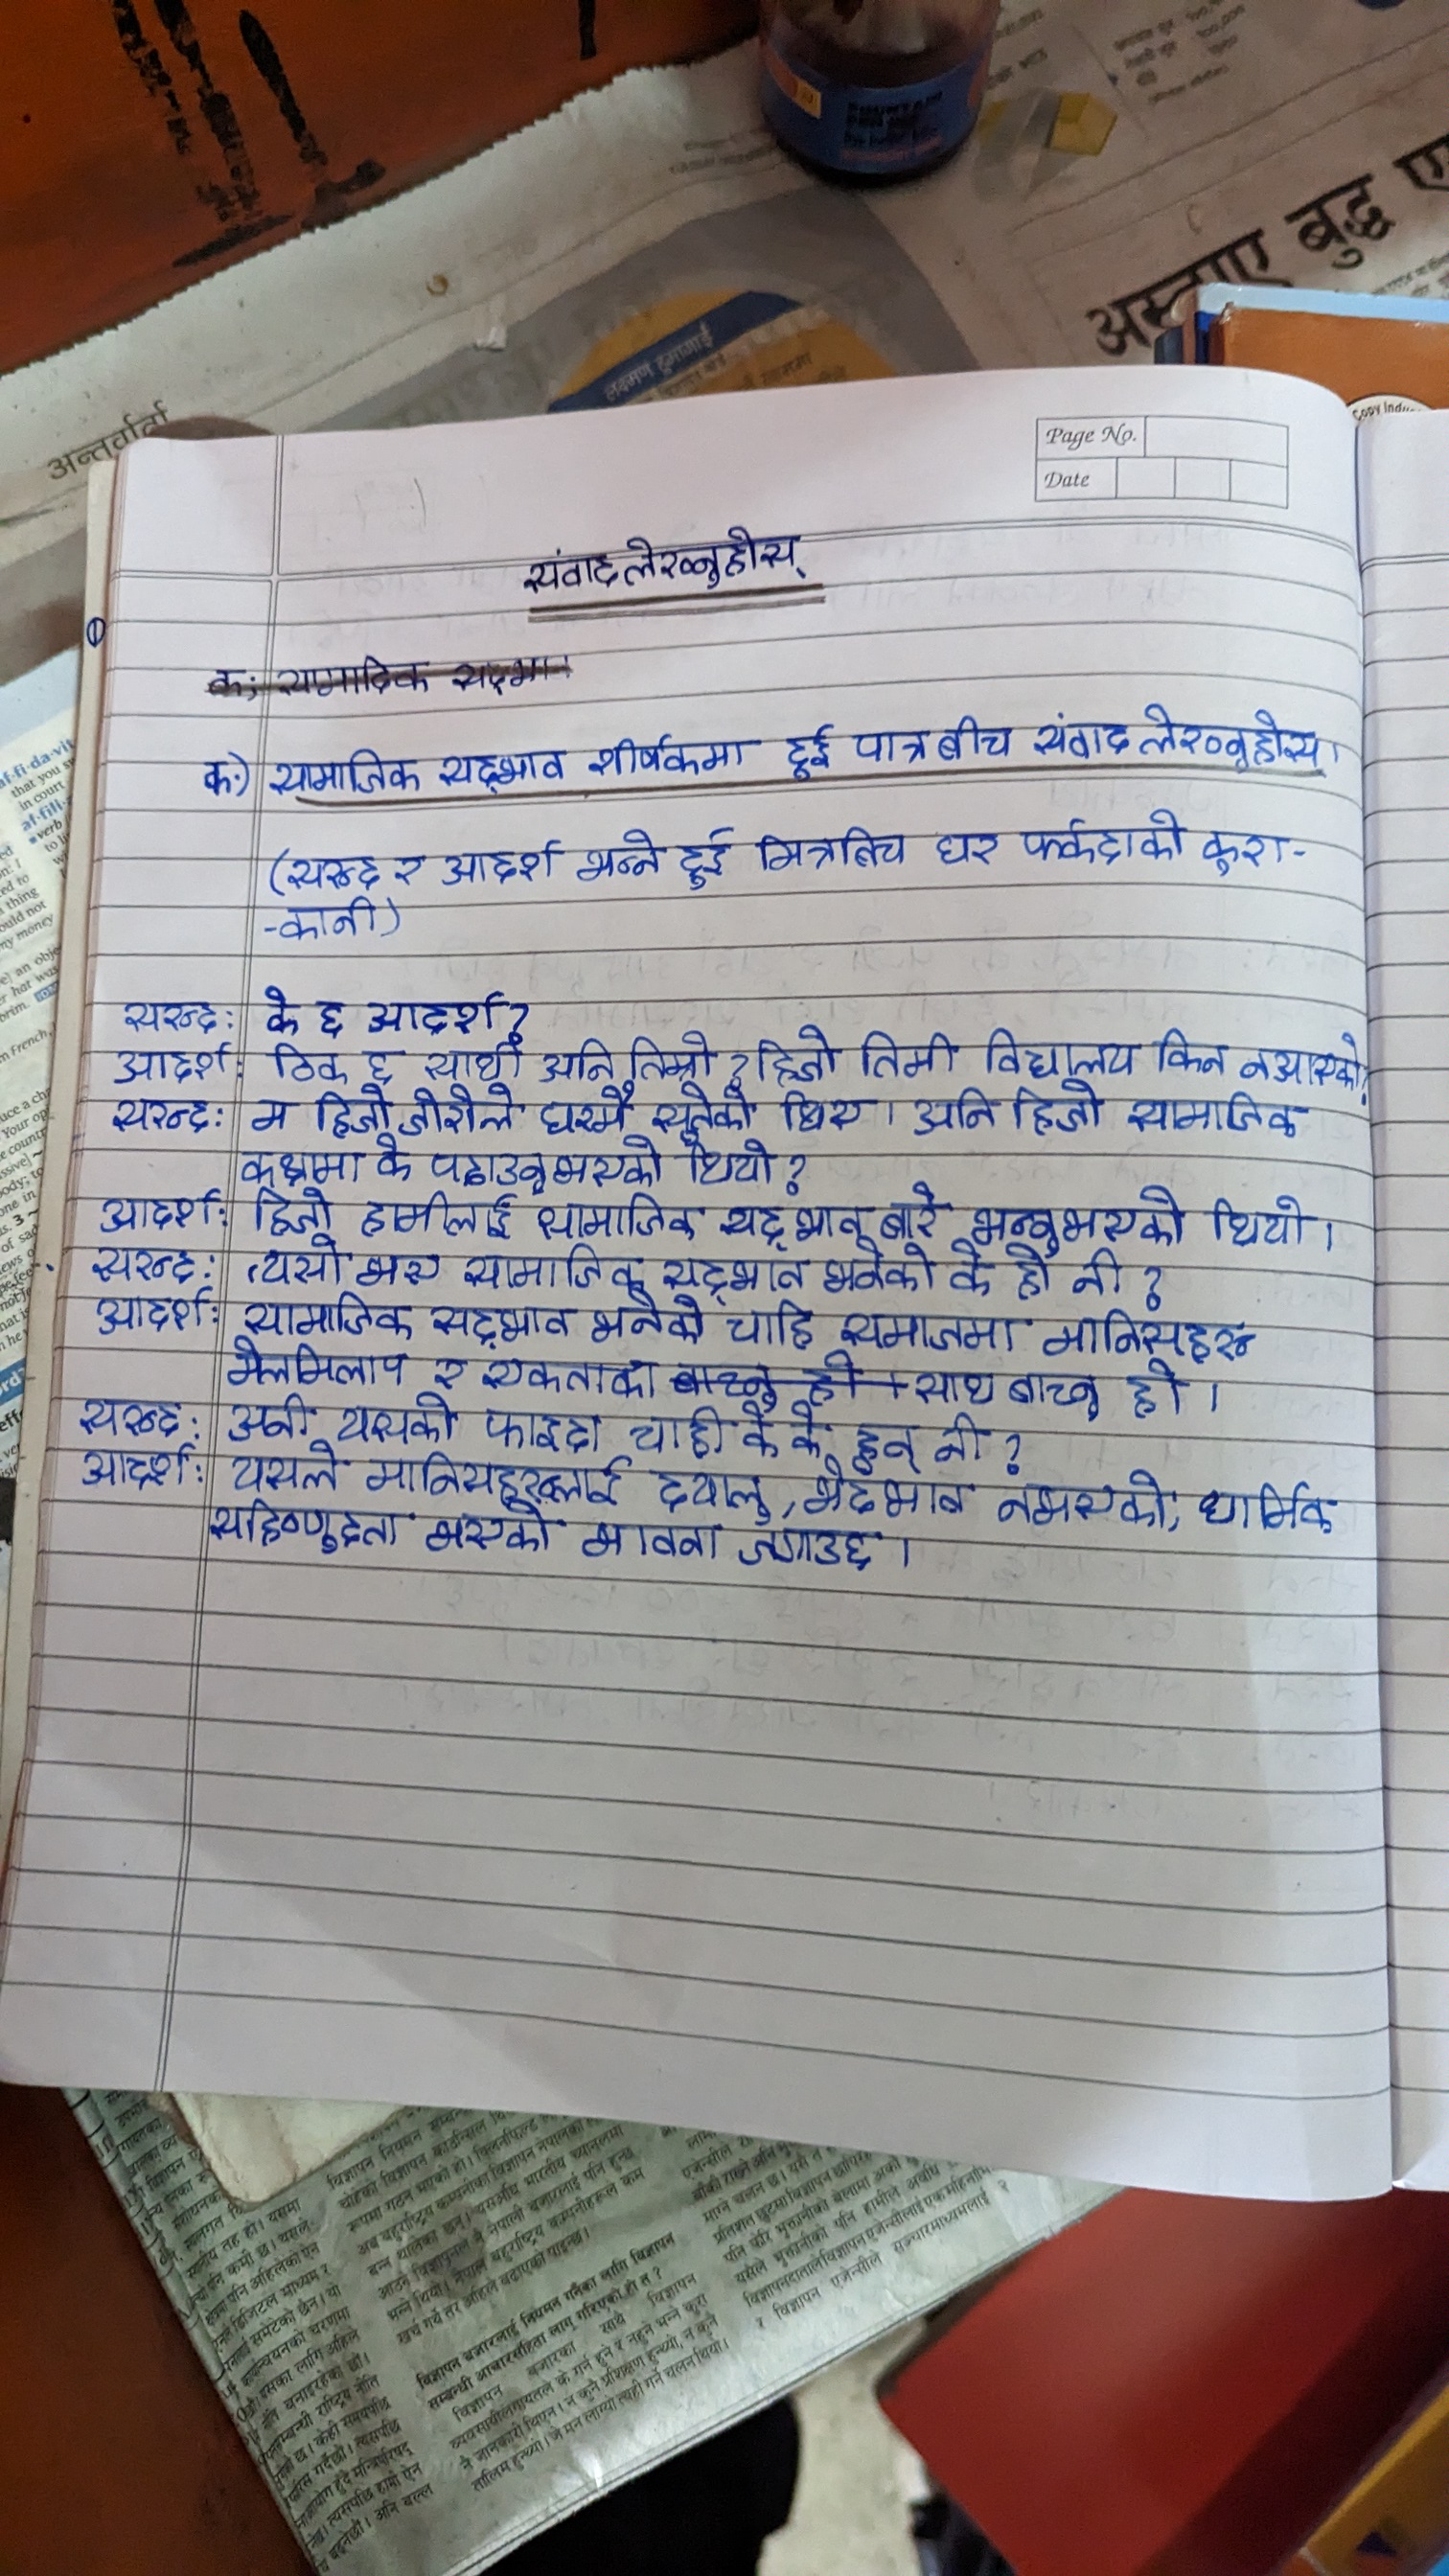text: (1139, 704, 1332, 778), (970, 1184, 1194, 1244), (998, 1470, 1173, 1545), (368, 1454, 625, 1504), (1189, 1476, 1364, 1548), (203, 1504, 403, 1566), (619, 531, 812, 591), (1042, 1307, 1251, 1359), (262, 740, 425, 800), (1021, 807, 1182, 867), (791, 1472, 978, 1523), (1120, 1086, 1300, 1139), (964, 1026, 1145, 1079), (750, 823, 906, 878), (225, 1341, 409, 1387), (435, 832, 568, 893), (478, 1355, 662, 1399), (541, 1194, 699, 1246), (584, 727, 745, 777), (464, 1247, 642, 1292), (357, 1192, 517, 1242), (1238, 1021, 1359, 1086), (1205, 1189, 1325, 1253), (830, 1313, 1028, 1350), (363, 987, 517, 1035), (582, 1522, 718, 1575), (741, 1525, 878, 1578), (246, 1297, 414, 1339), (651, 1249, 810, 1293), (221, 1440, 350, 1493), (433, 745, 568, 794), (1024, 704, 1132, 764), (750, 1021, 849, 1085), (856, 1021, 955, 1085), (511, 538, 616, 596), (591, 1295, 701, 1350), (428, 1506, 548, 1555), (649, 1470, 768, 1520), (400, 1086, 517, 1136), (110, 1037, 235, 1083), (88, 1286, 214, 1332), (74, 1444, 200, 1490), (483, 1405, 603, 1453), (94, 1184, 218, 1230), (817, 1247, 941, 1293), (338, 1394, 456, 1442), (430, 1306, 573, 1345), (550, 1138, 662, 1187), (1008, 1081, 1115, 1132), (430, 1145, 547, 1191), (717, 1297, 821, 1348), (531, 1085, 639, 1134), (768, 1086, 876, 1136), (237, 1187, 343, 1237), (244, 1238, 343, 1292), (925, 816, 1012, 876), (649, 1086, 757, 1134), (890, 1088, 998, 1136), (579, 824, 662, 886), (1005, 1369, 1104, 1421), (242, 1145, 361, 1187), (626, 1408, 727, 1458), (1152, 1021, 1231, 1083), (416, 1039, 525, 1083), (1200, 826, 1297, 876), (630, 1028, 722, 1079), (280, 897, 373, 947), (117, 994, 234, 1033), (678, 1141, 780, 1185), (287, 846, 380, 893), (87, 1242, 202, 1281), (78, 1394, 193, 1433), (879, 1175, 943, 1244), (766, 720, 840, 778), (853, 715, 927, 773), (936, 709, 1010, 768), (104, 1097, 221, 1134), (676, 821, 736, 892), (1123, 1361, 1185, 1428), (221, 1396, 320, 1437), (711, 1200, 789, 1251), (904, 1366, 1001, 1407), (258, 1042, 350, 1085), (315, 1088, 393, 1138), (853, 1415, 922, 1470), (541, 1039, 619, 1085), (1074, 1246, 1129, 1304), (947, 1246, 1001, 1304), (1003, 1246, 1056, 1304), (354, 1253, 441, 1288), (258, 978, 306, 1042), (310, 975, 357, 1039), (934, 1414, 991, 1465), (796, 1205, 869, 1242), (246, 1090, 295, 1139), (203, 747, 244, 803), (393, 837, 432, 893), (354, 1040, 403, 1085), (741, 1405, 780, 1460), (372, 1139, 416, 1184), (789, 1401, 821, 1460), (435, 1357, 467, 1391)
